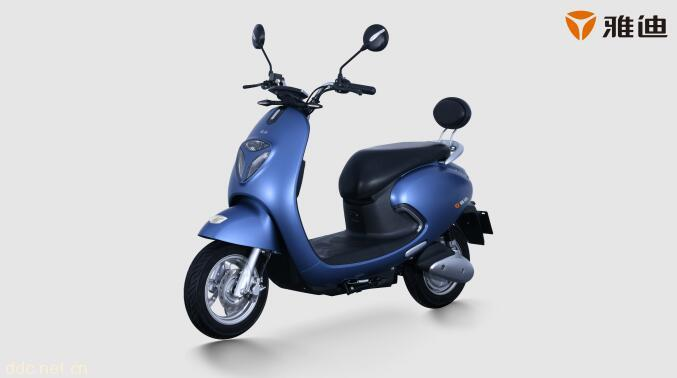MNV: (184, 22, 491, 339)
